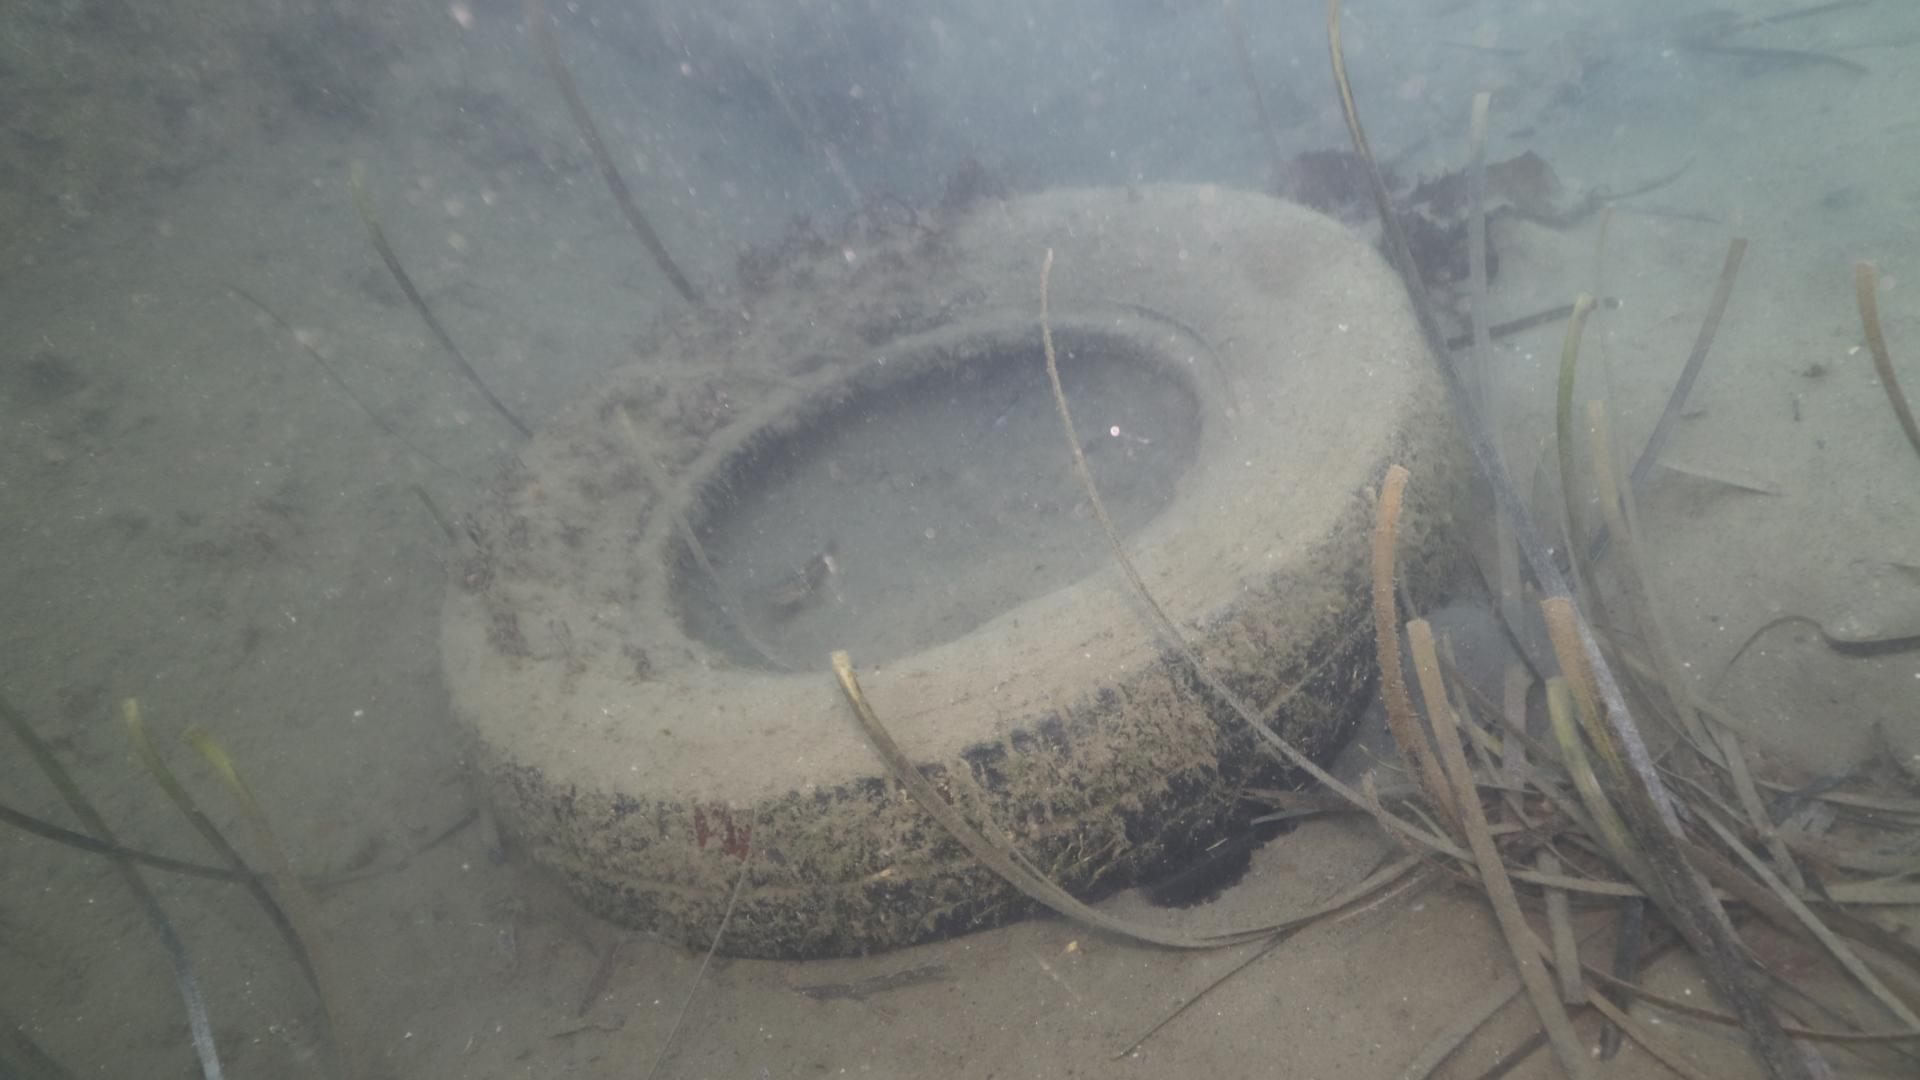tire: (440, 178, 1485, 963)
